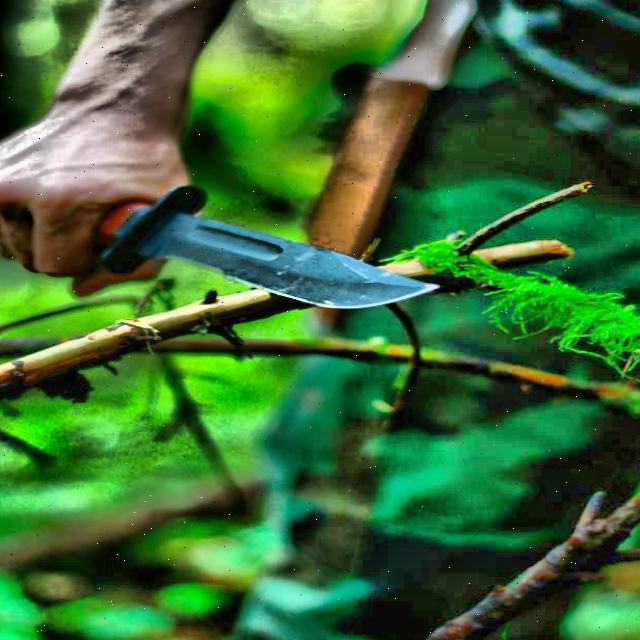knife: (61, 182, 435, 318)
